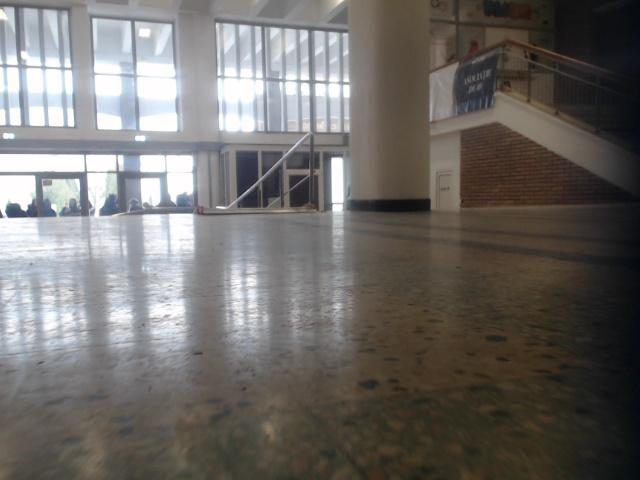rampDown: (193, 203, 317, 214)
ramps-railing: (215, 132, 314, 207)
